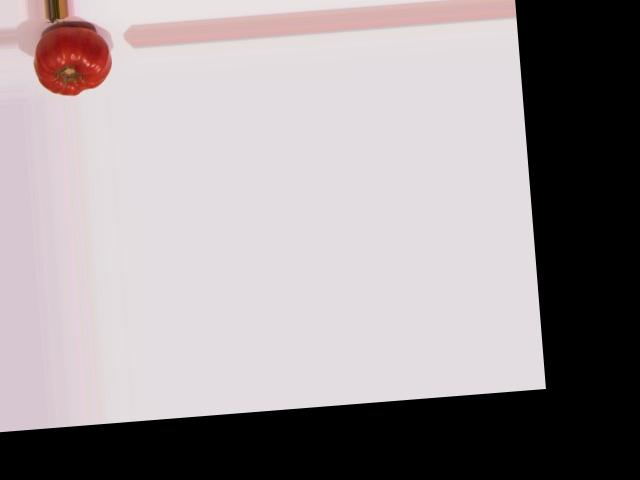tomato: (32, 23, 113, 97)
